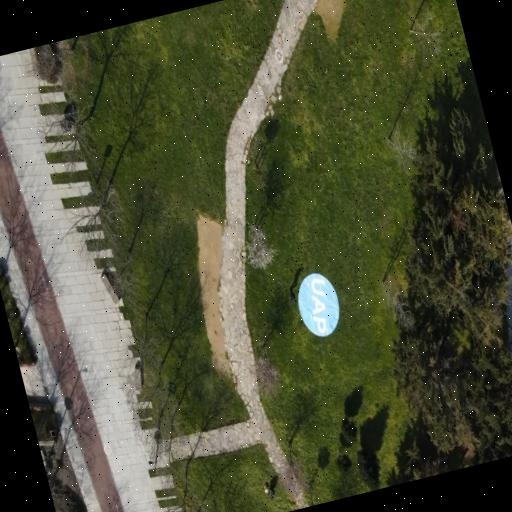UAP: (297, 270, 337, 337)
person: (289, 287, 295, 301)
